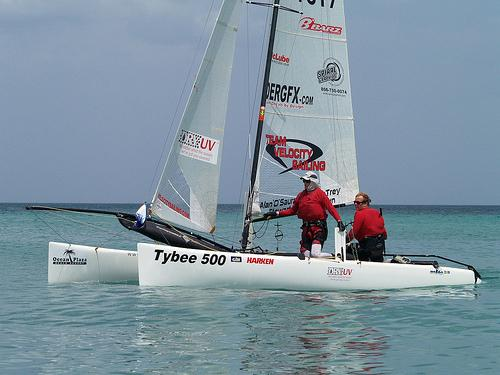Ship: (26, 1, 485, 289)
